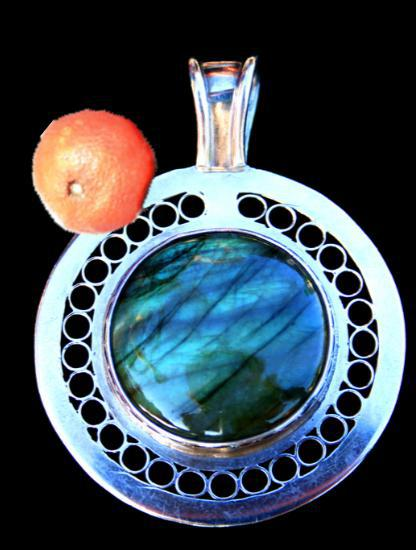Clementine: (29, 107, 162, 240)
